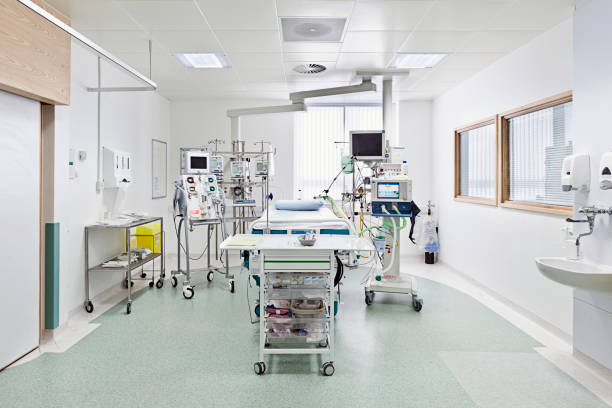bedside_monitor: (348, 130, 386, 159), (181, 149, 213, 175)
breathing_tube: (319, 191, 407, 279)
dispenser: (104, 145, 135, 193), (562, 150, 591, 192), (597, 150, 612, 191)
faucet: (564, 204, 612, 252)
foot_board: (248, 218, 354, 235)
hospital_bed: (249, 198, 348, 245)
iv_pole: (254, 139, 270, 214)
sink: (533, 253, 612, 295)
utility_cart: (222, 228, 377, 364), (78, 207, 168, 312)
ventilator: (370, 175, 413, 292)
